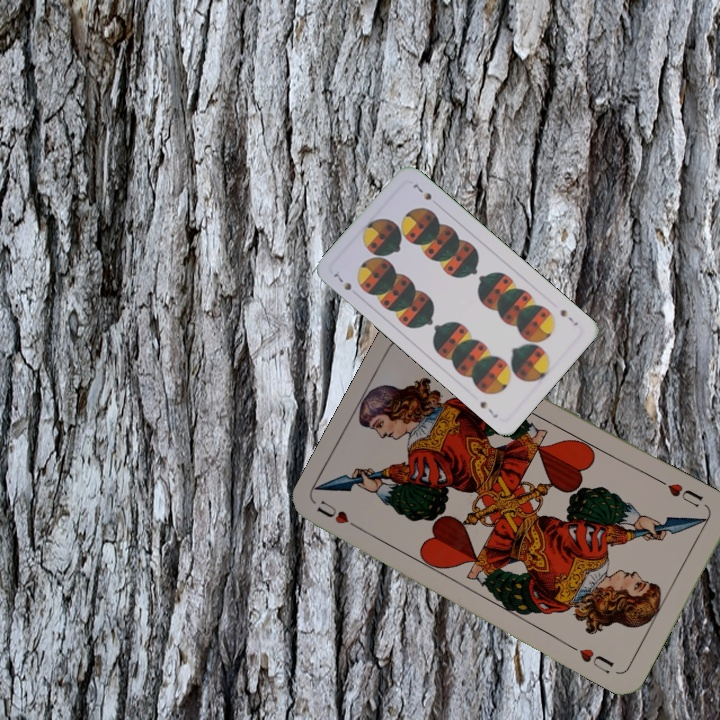HU: (313, 496, 367, 535), (655, 476, 706, 510)
S7: (330, 269, 354, 293), (556, 305, 581, 328)
